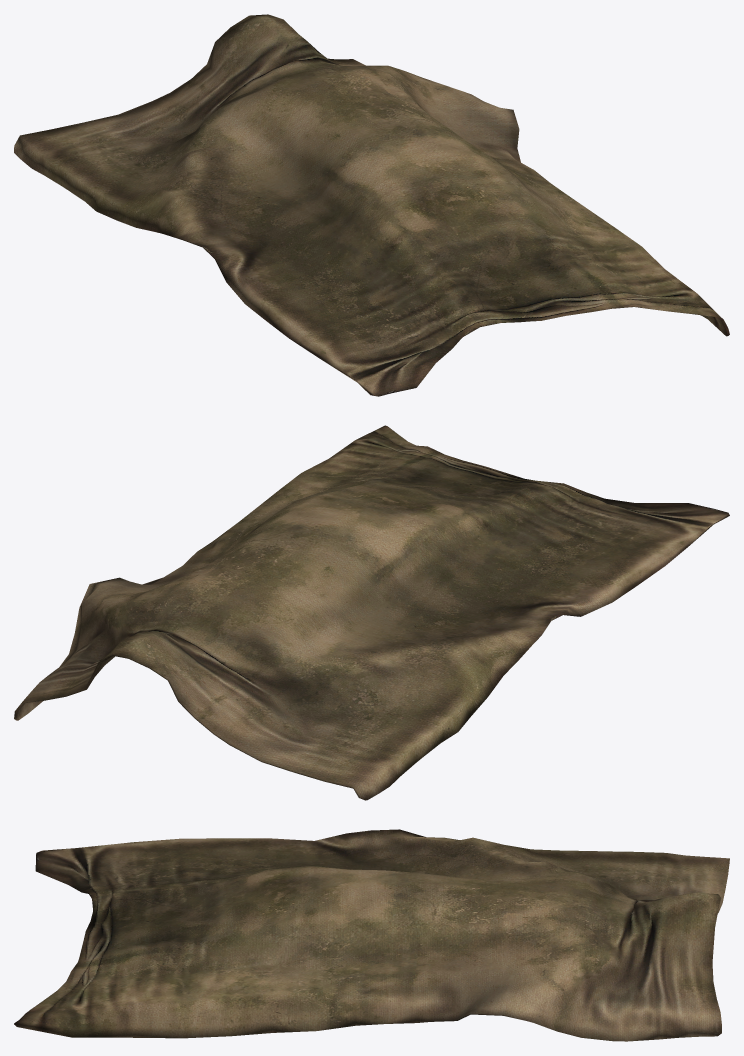
The model's file is bedsheet_old_corpse_long.dae.
The picture shows the model from 3 angles, top to bottom: view 1: azimuth 30°, elevation 25°; view 2: azimuth 150°, elevation 25°; view 3: azimuth 270°, elevation 25°; orthographic projection. The views are drawn at different scales.
Parts seen in each view (by area): view 1: M_Sheet1; view 2: M_Sheet1; view 3: M_Sheet1.
Part boxes in pixels (bbox=[...]): M_Sheet1: bbox=[14, 14, 729, 396]; M_Sheet1: bbox=[14, 425, 729, 800]; M_Sheet1: bbox=[14, 829, 729, 1041].
Size of the model in its own units: 1.61 by 0.3845 by 2.64.
